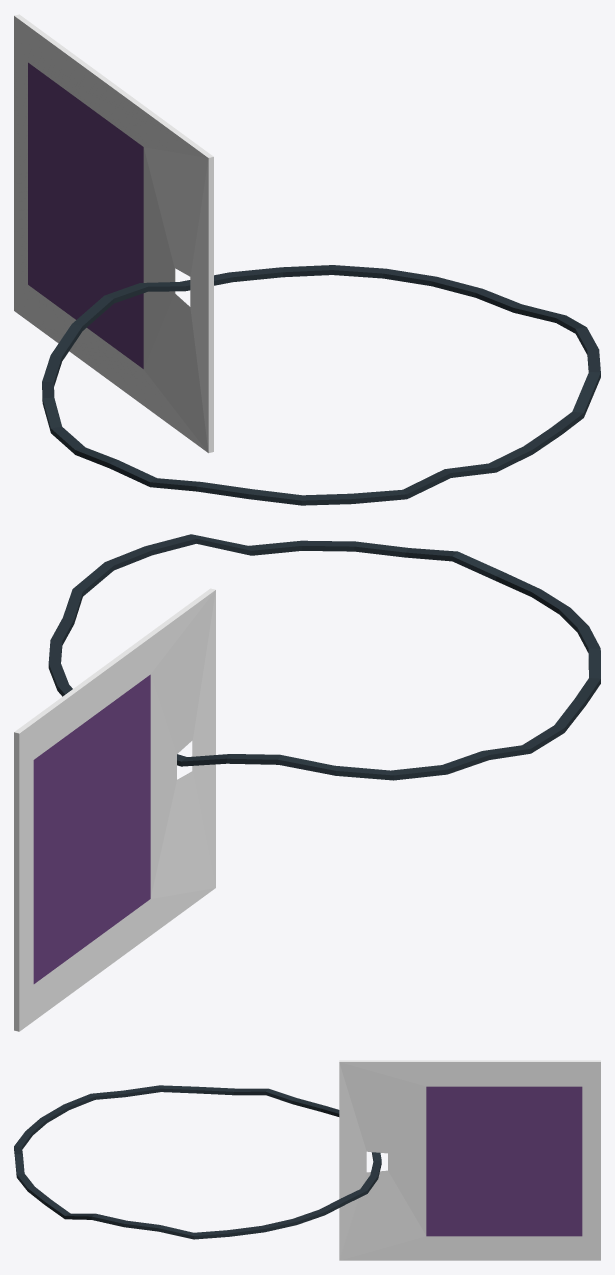
File: PurpleSquareTag.fbx
3 renders of one model, top to bottom at view 1: azimuth 30°, elevation 25°; view 2: azimuth 150°, elevation 25°; view 3: azimuth 270°, elevation 25°, orthographic. The views are drawn at different scales.
Visible parts, largest first — view 1: SquareTag.001; view 2: SquareTag.001; view 3: SquareTag.001.
Boxes of the visible parts, left/top/right/bottom form: SquareTag.001: left=14, top=14, right=600, bottom=505; SquareTag.001: left=14, top=534, right=600, bottom=1031; SquareTag.001: left=14, top=1060, right=600, bottom=1260.
Bounding box in the file's own units: 55.34 × 31.91 × 85.46.
